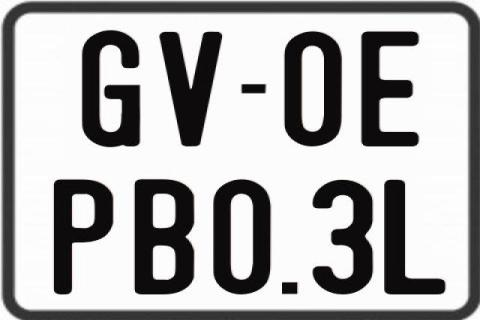0: (312, 178, 377, 294), (283, 31, 342, 149), (213, 178, 271, 294)
B: (135, 177, 197, 293)
E: (361, 31, 423, 149)
G: (79, 28, 137, 147)
L: (382, 178, 446, 296)
P: (51, 178, 116, 296)
V: (157, 32, 224, 151)
